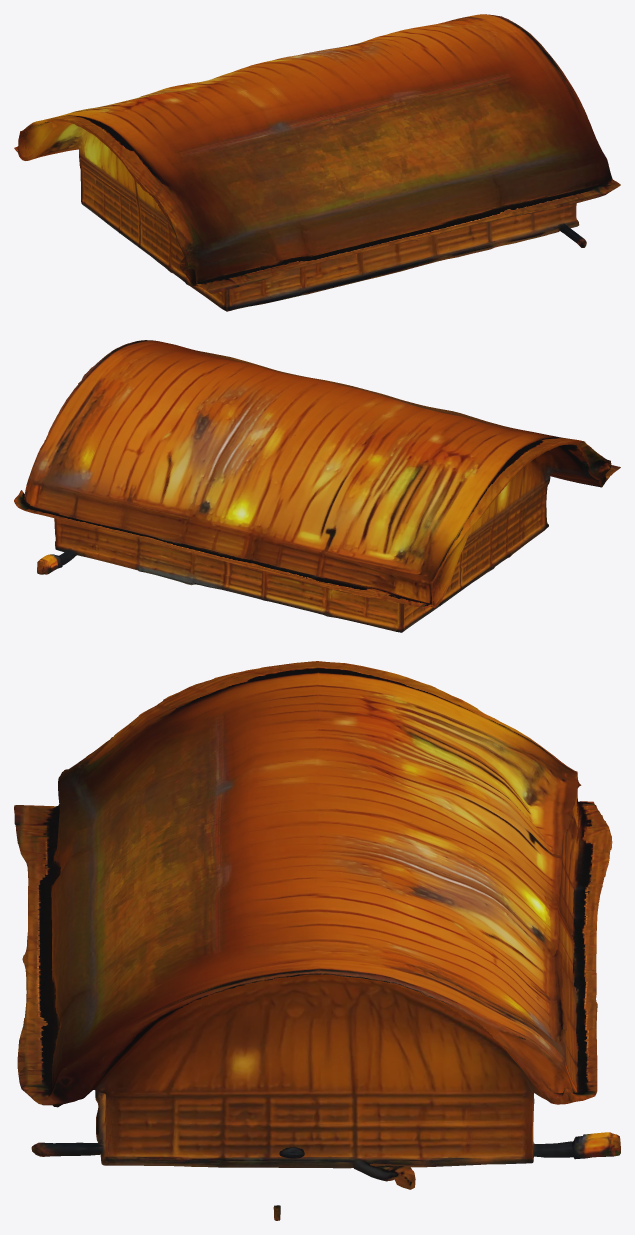
File: musterhall.glb
3 views of the same model, one above another, from view 1: azimuth 30°, elevation 25°; view 2: azimuth 150°, elevation 25°; view 3: azimuth 270°, elevation 25° (orthographic). The views are drawn at different scales.
Visible parts, largest first — view 1: geometry_0; view 2: geometry_0; view 3: geometry_0.
Part boxes in pixels (x1,y1,x2,y2): geometry_0: [14, 14, 620, 311]; geometry_0: [14, 340, 620, 632]; geometry_0: [14, 661, 620, 1220].
Size of the model in its own units: 2.94 by 0.9543 by 2.25.
1 material, 1 textured.
